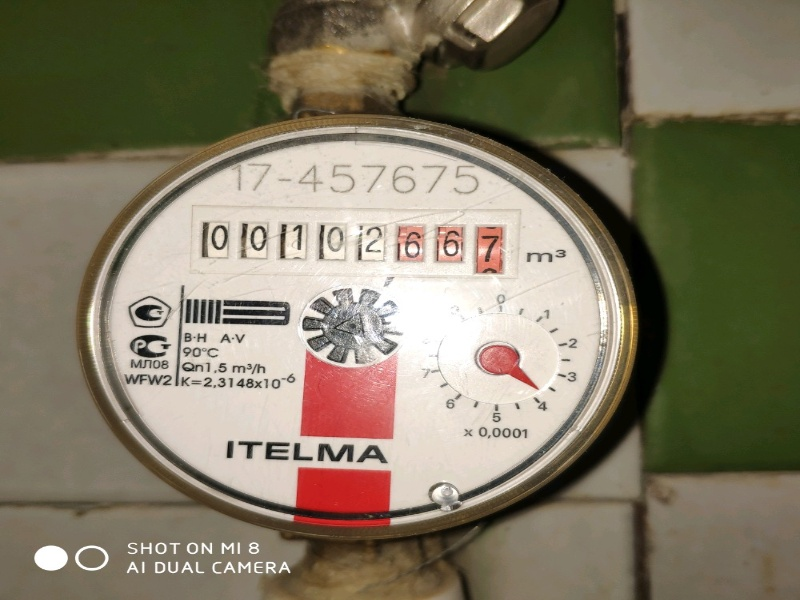dial: (179, 201, 514, 281)
